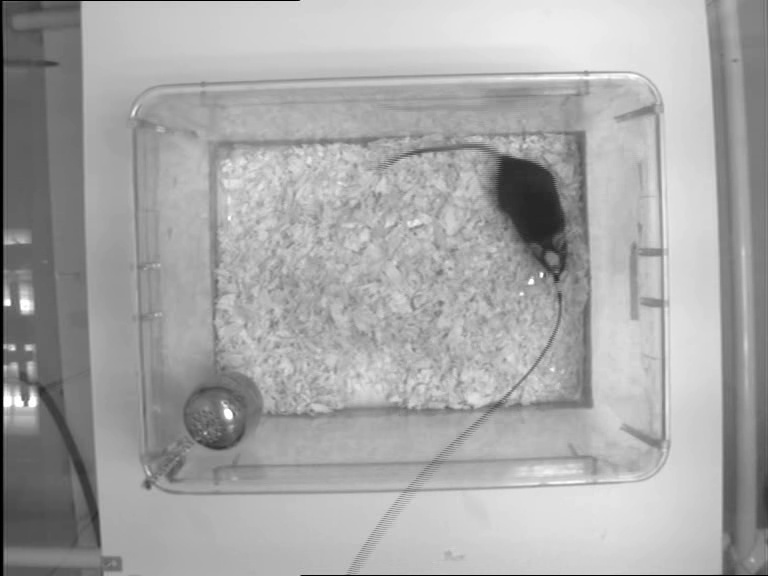mice: (378, 140, 568, 280)
